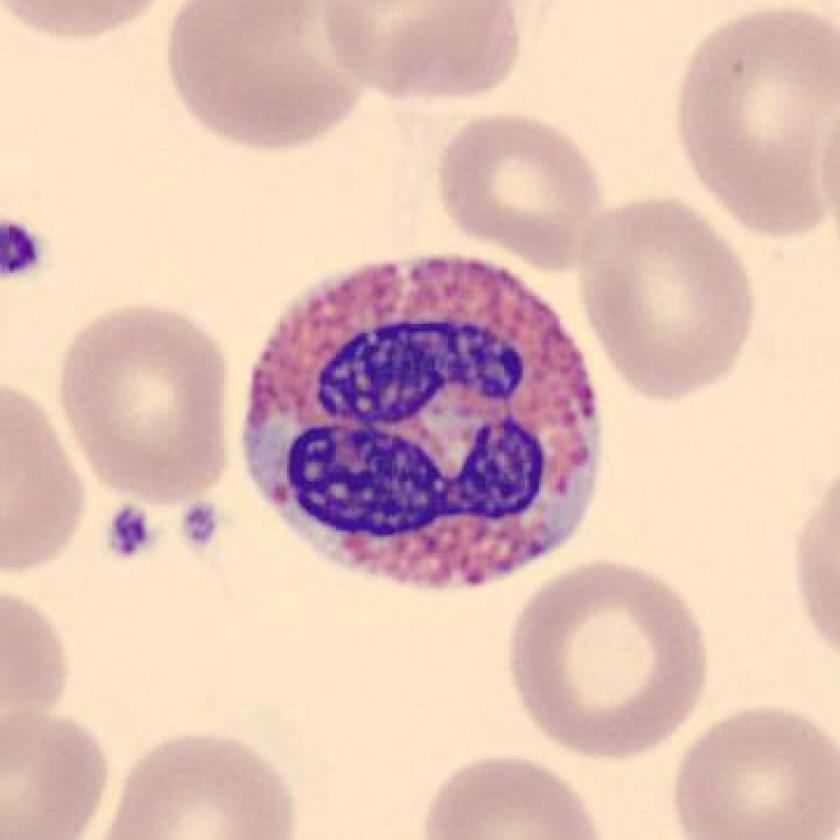eosinophil: (230, 242, 615, 605)
